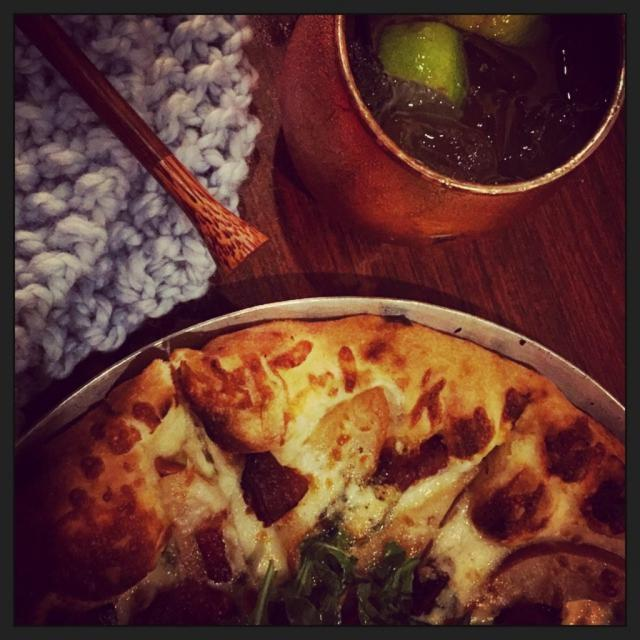Pizza: (15, 305, 627, 625)
